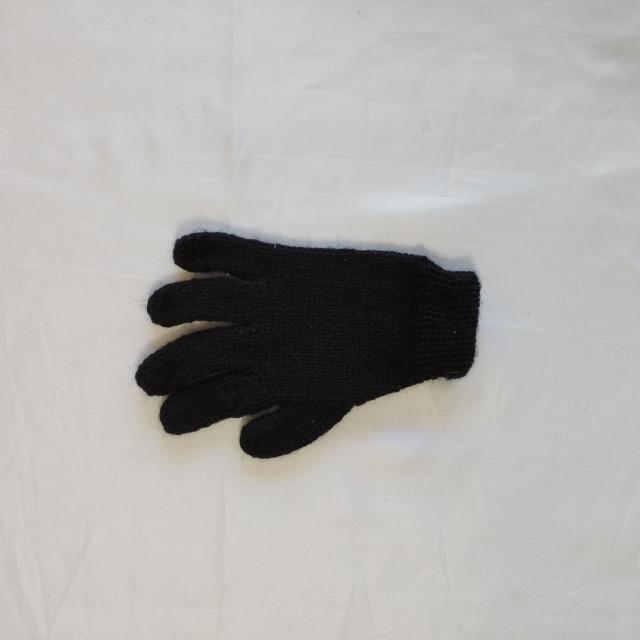Guante: (135, 228, 482, 460)
